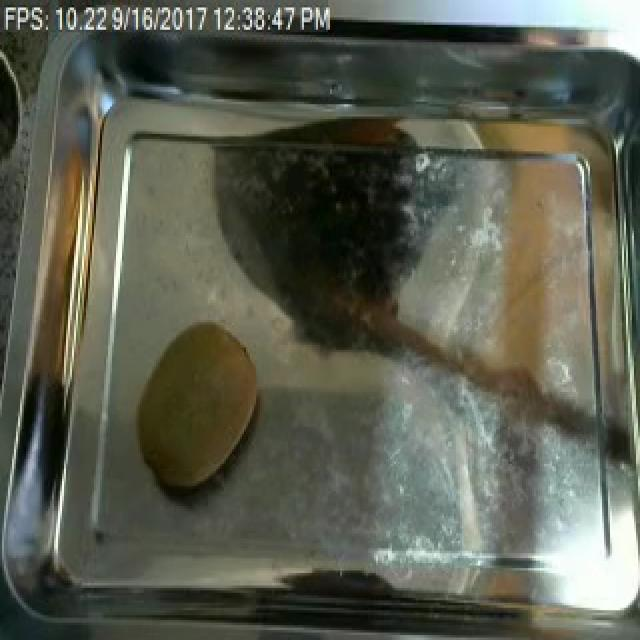Fruit: (128, 315, 268, 499)
